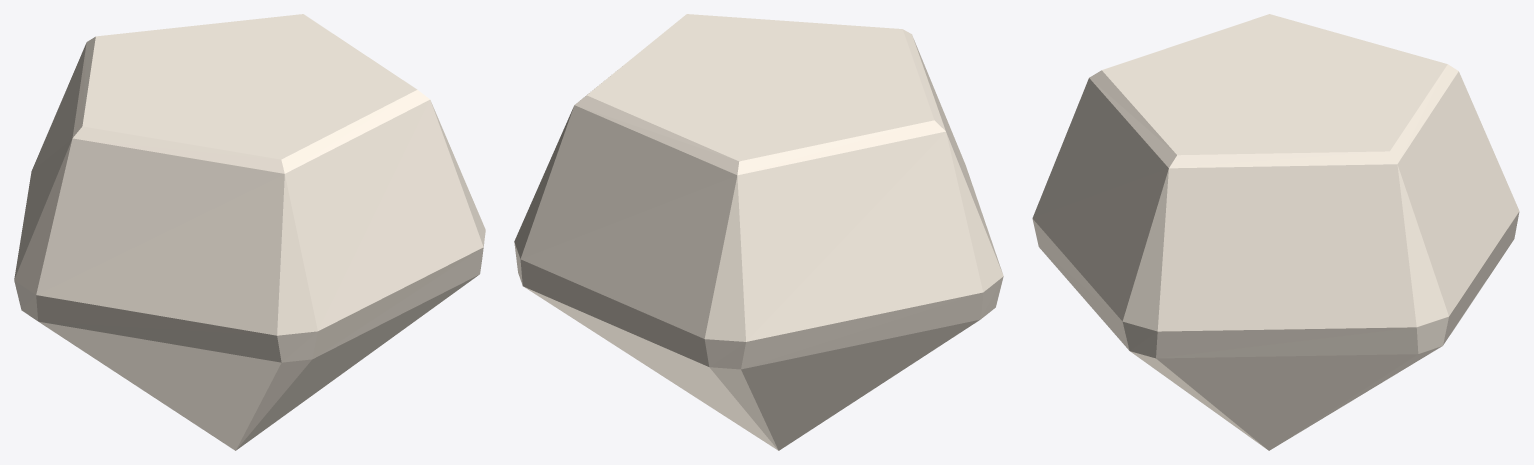
File: Clear Gem.obj
3 renders of one model, left to right at view 1: azimuth 30°, elevation 25°; view 2: azimuth 150°, elevation 25°; view 3: azimuth 270°, elevation 25°, orthographic.
Visible parts, largest first — view 1: ClearGem; view 2: ClearGem; view 3: ClearGem.
Part boxes in pixels (box(x1,y1,x2,y2)): ClearGem: box(14, 14, 485, 450); ClearGem: box(514, 14, 1003, 450); ClearGem: box(1032, 14, 1519, 450).
Size of the model in its own units: 4.98 by 4.24 by 5.17.
1 material, 1 textured.
